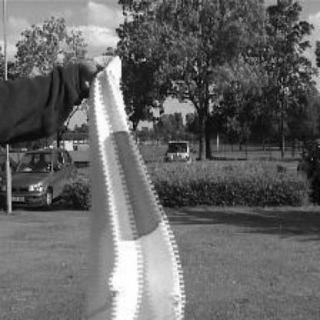other: (80, 120, 184, 246)
